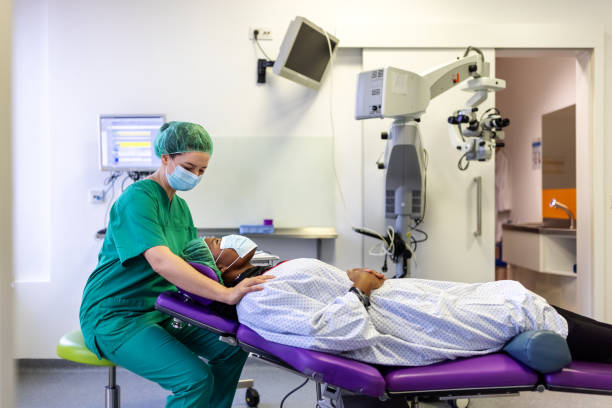TV: (271, 14, 341, 95)
bedside_monitor: (97, 111, 167, 173)
chair: (60, 320, 141, 408)
counter: (500, 225, 580, 274)
door_handle: (468, 177, 487, 238)
exam_table: (155, 262, 612, 408)
patient: (179, 233, 612, 367)
sink: (516, 221, 545, 231)
staff: (77, 118, 275, 408)
